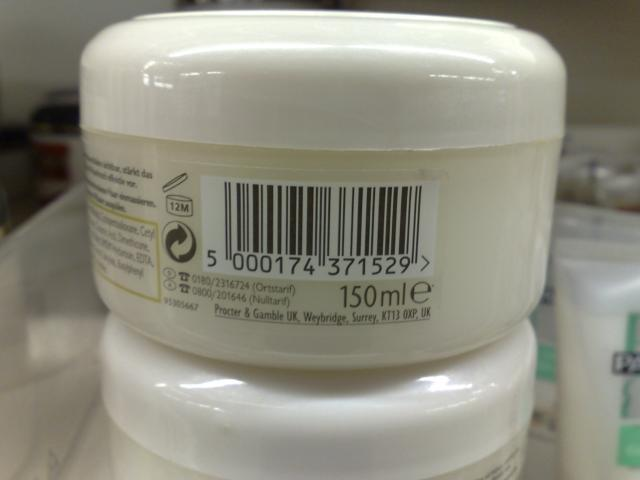Barcode: (199, 175, 437, 279)
